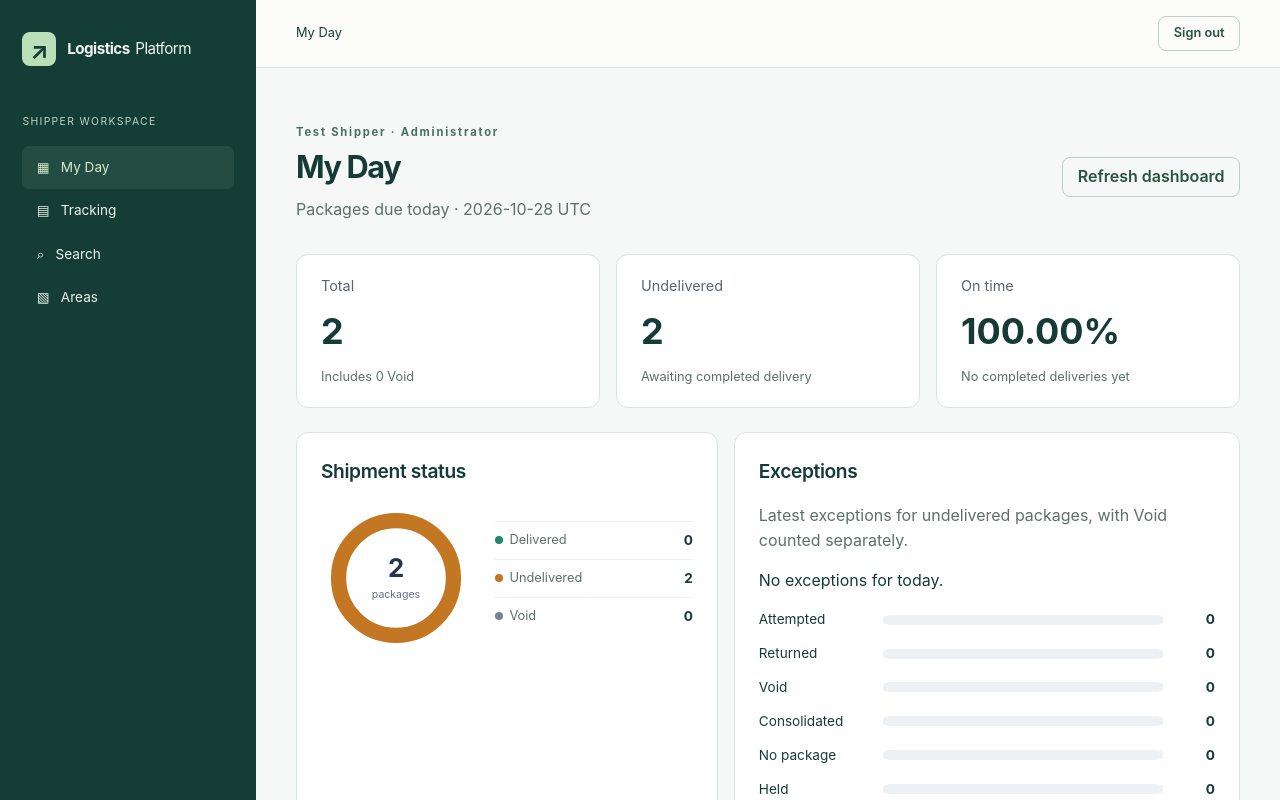
Test case: displays the no-Delivered OTP case and all-Void case without changing the API percentage
The image size is (1280, 800).
Check: the text "No completed deliveries yet" is shown, box [961,369,1130,384]
Check: the element named "My Day shipment metrics" shows "100.00%", box [296,254,1240,408]
Click the button "Refresh dashboard".
click(1151, 177)  # box [1062,157,1240,196]
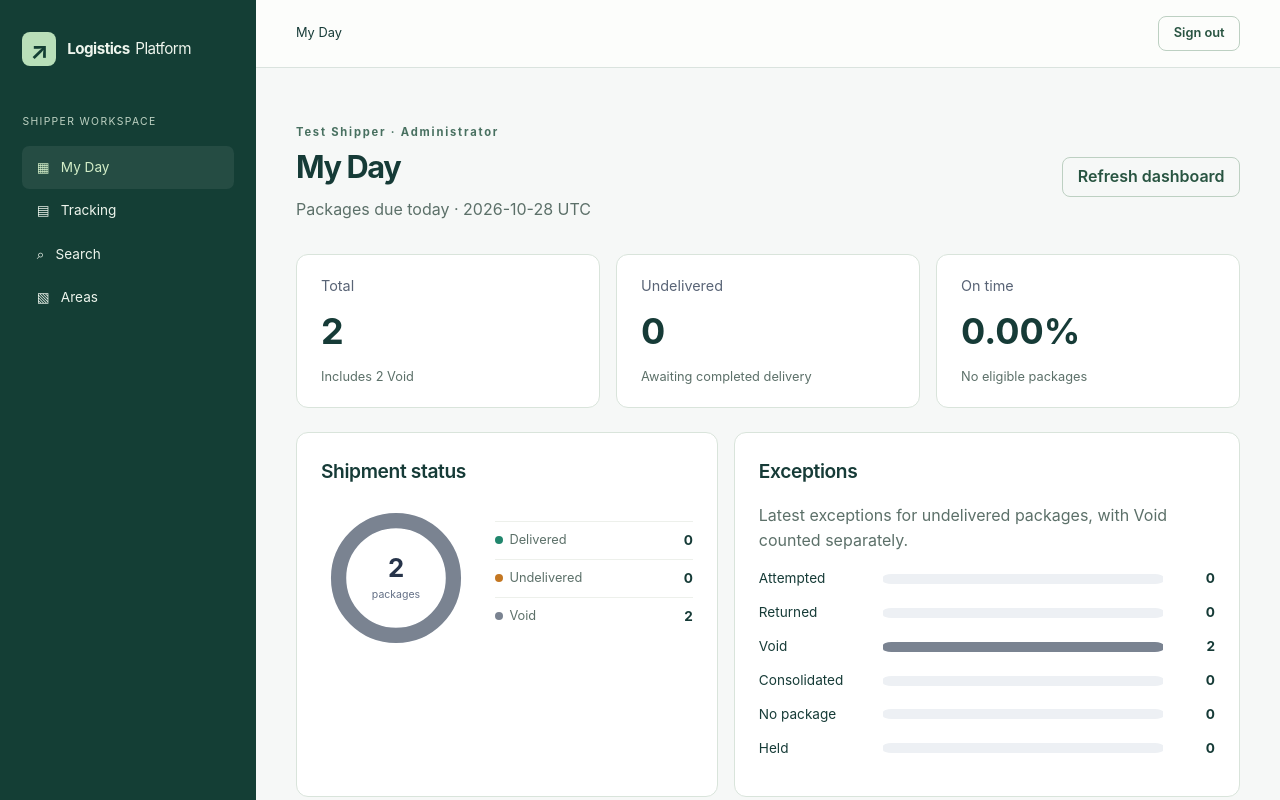
Check: the element named "My Day shipment metrics" shows "0.00%", box [296,254,1240,408]
Check: the text "No eligible packages" is shown, box [961,369,1087,384]
